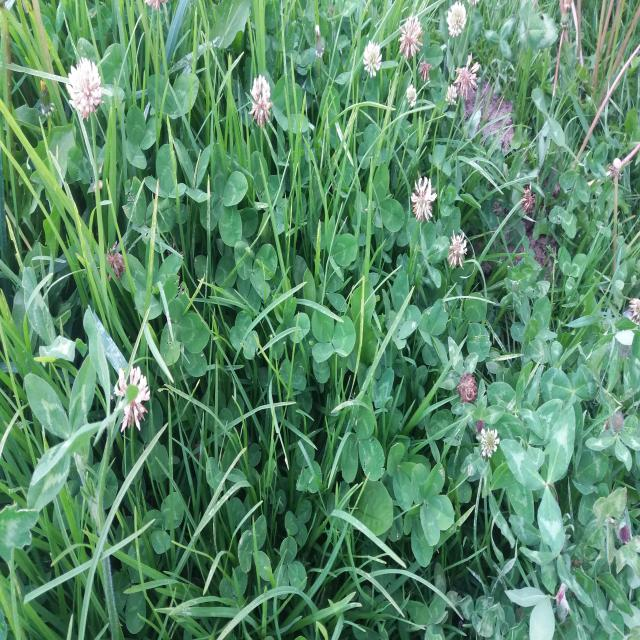Four Leaf Clover: (199, 142, 248, 247), (410, 463, 454, 546)
